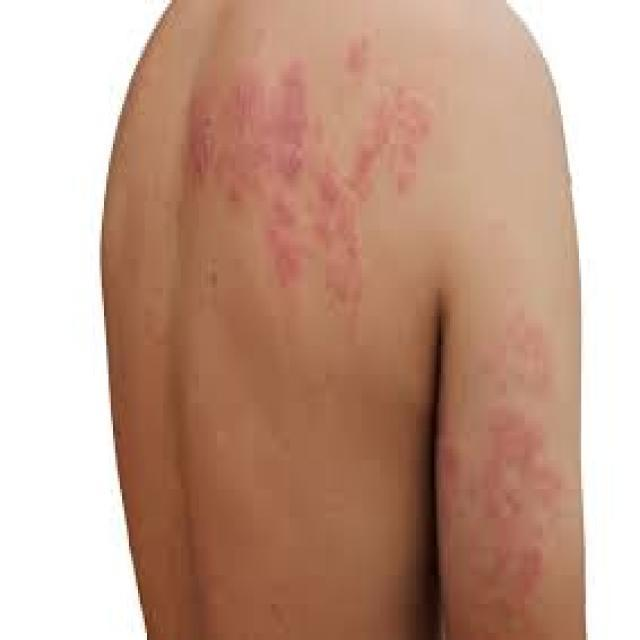Shingles: (169, 33, 432, 299), (469, 299, 566, 620)
